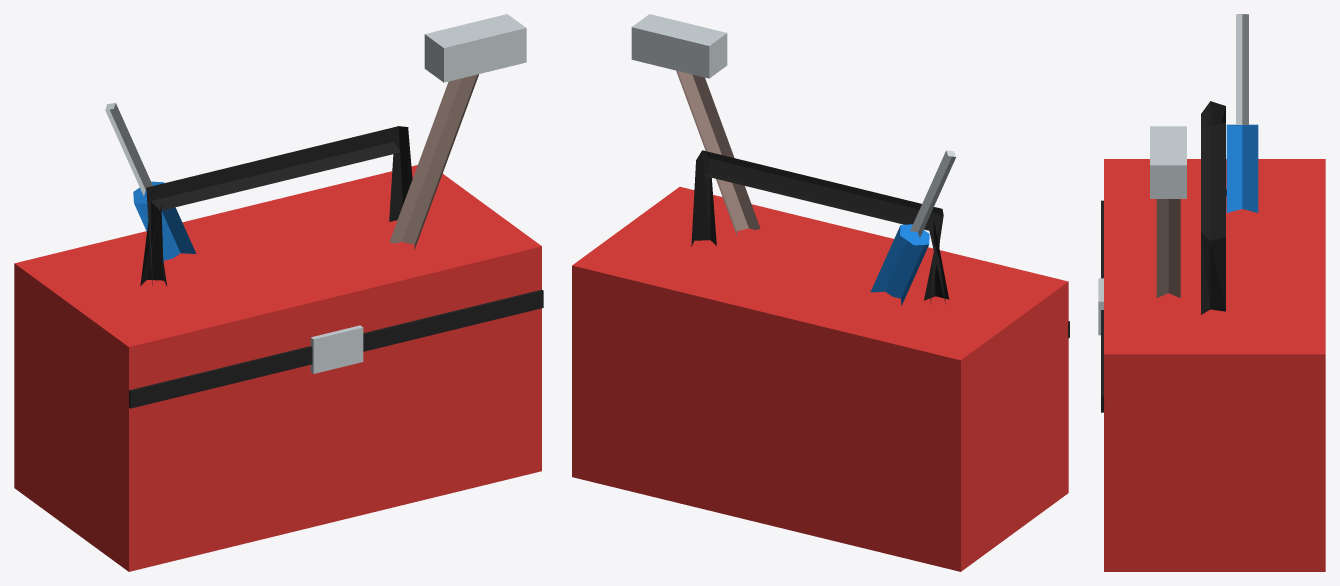
Rendered from verktygslada.glb.
3 renders of one model, left to right at view 1: azimuth 30°, elevation 25°; view 2: azimuth 150°, elevation 25°; view 3: azimuth 270°, elevation 25°, orthographic. The views are drawn at different scales.
Parts seen in each view (by area): view 1: verktygslada; view 2: verktygslada; view 3: verktygslada.
Boxes of the visible parts, left/top/right/bottom form: verktygslada: left=14, top=14, right=543, bottom=571; verktygslada: left=572, top=14, right=1069, bottom=571; verktygslada: left=1098, top=14, right=1325, bottom=571.
Bounding box in the file's own units: 0.51 × 0.49 × 0.246.
